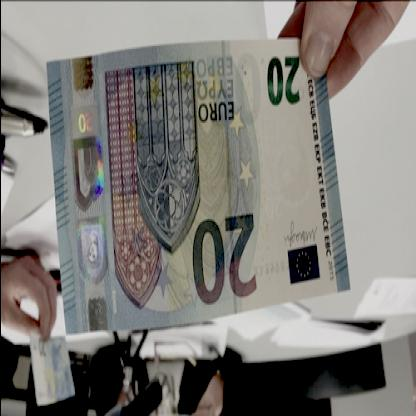euro_banknote: (54, 44, 342, 324)
